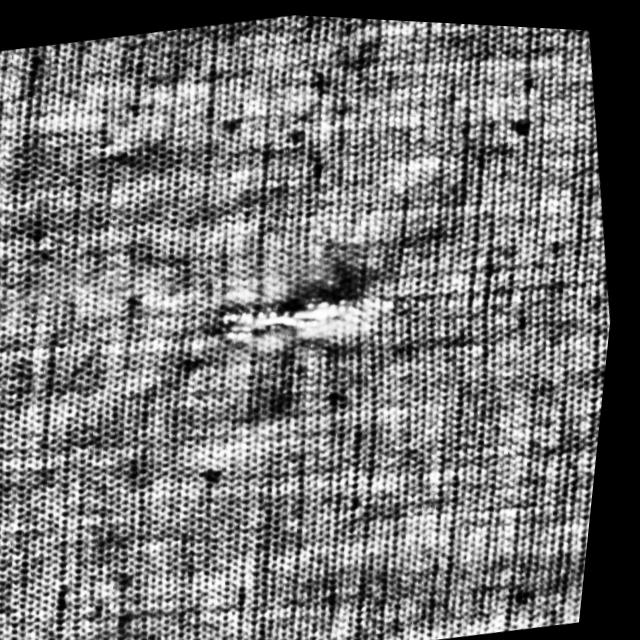Hole: (219, 273, 409, 349)
